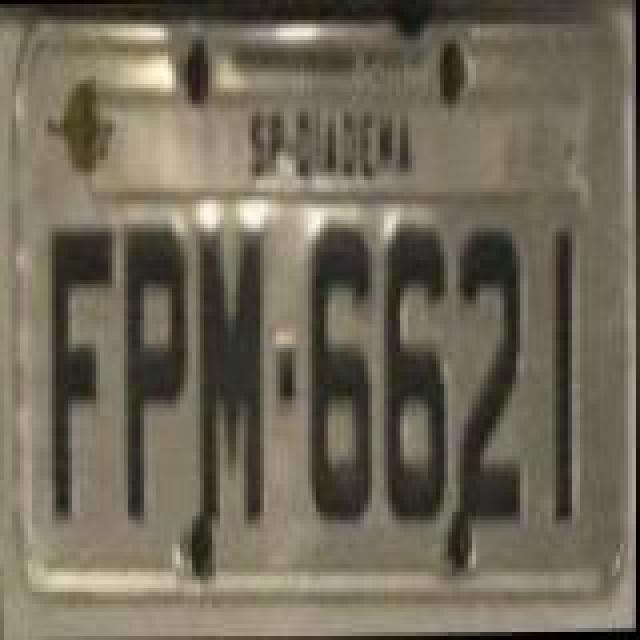1: (554, 226, 582, 526)
2: (456, 230, 528, 526)
6: (308, 222, 376, 526), (380, 222, 448, 522)
F: (52, 228, 120, 524)
M: (196, 226, 264, 526)
P: (124, 222, 192, 526)
